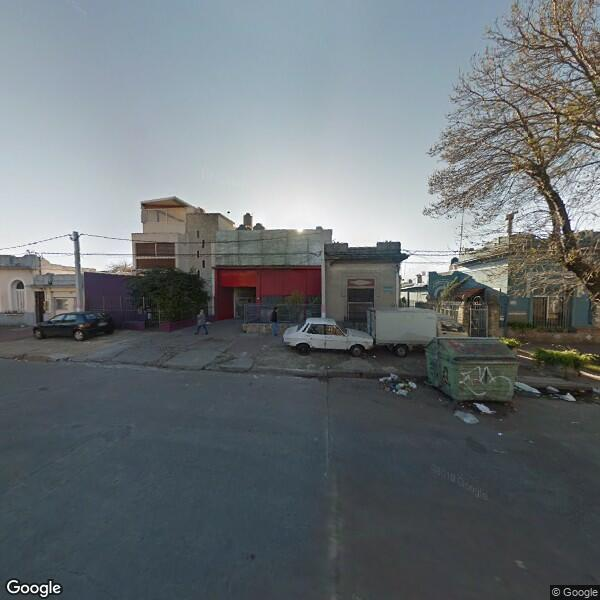Dechets: (514, 381, 591, 406), (377, 370, 418, 398), (450, 403, 498, 426)
Trash: (424, 334, 518, 403)
